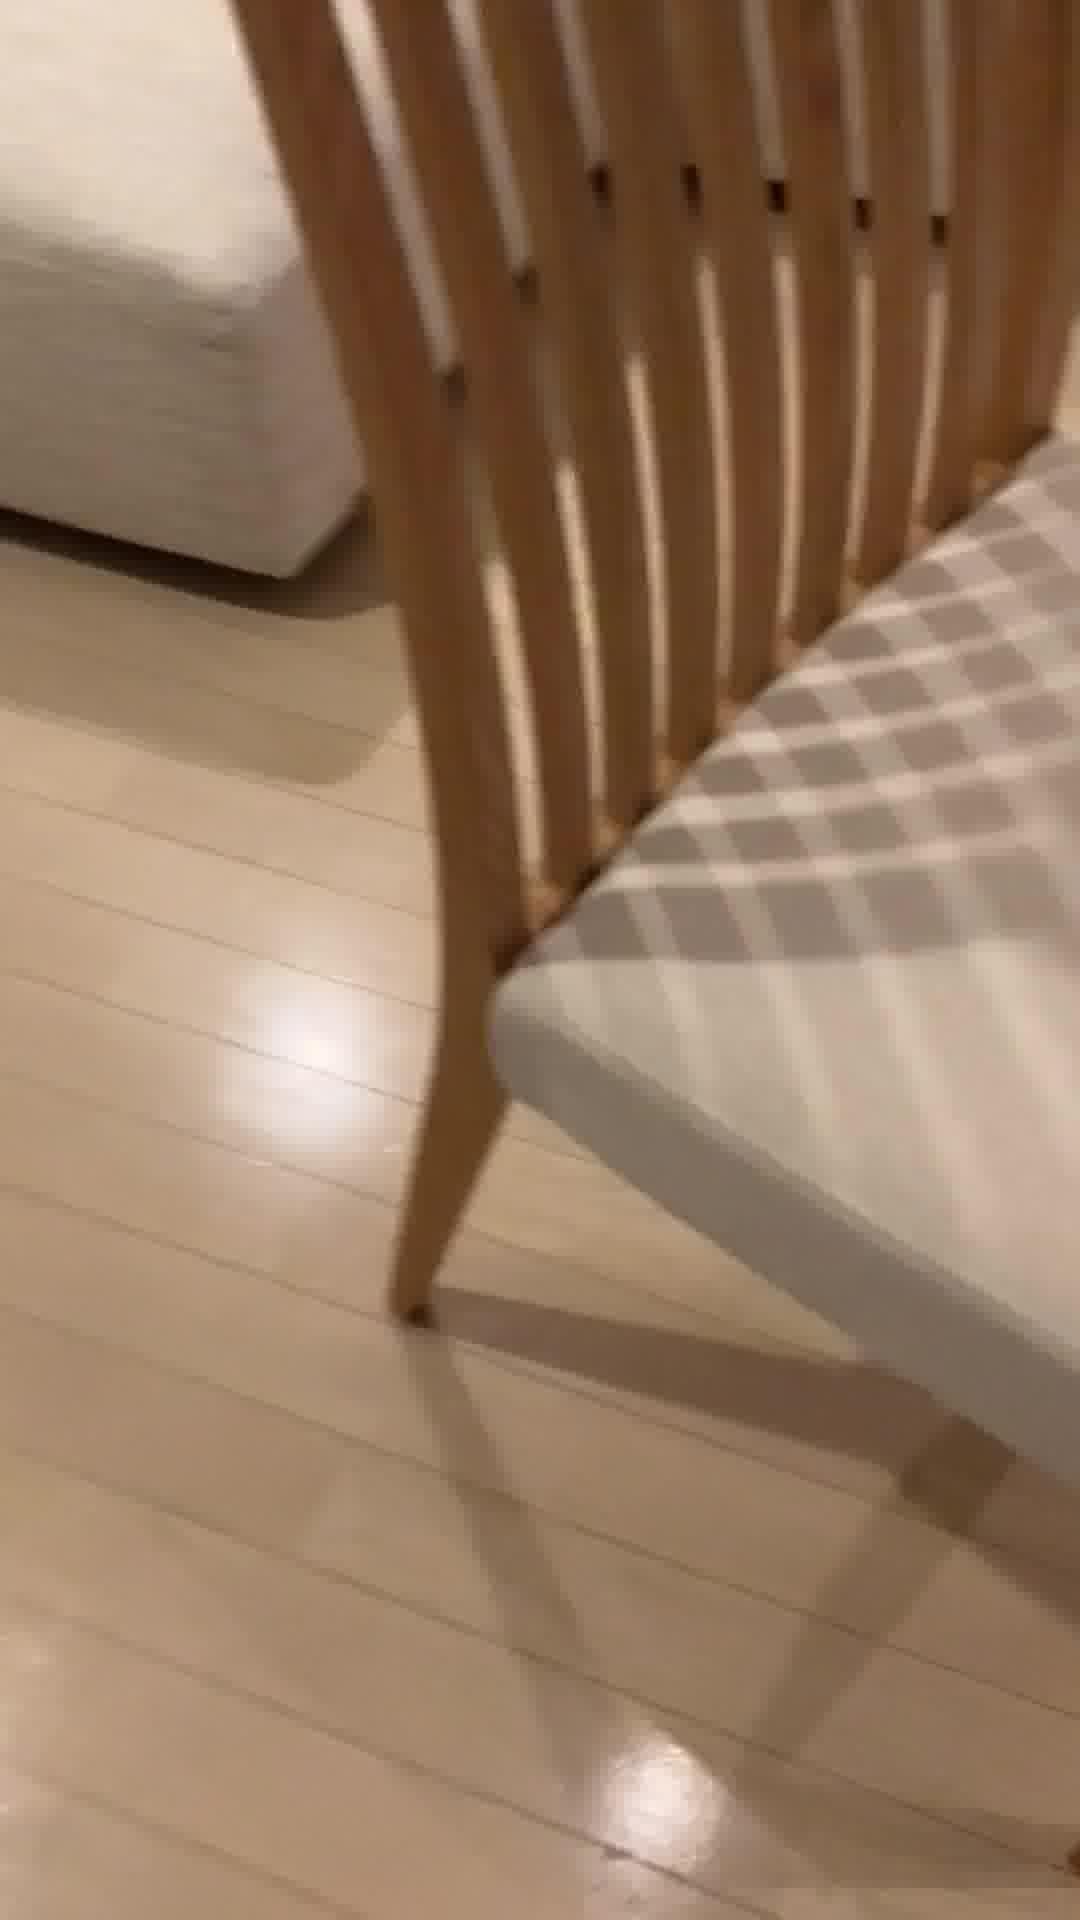takumikan-chair: (225, 0, 1080, 1493)
